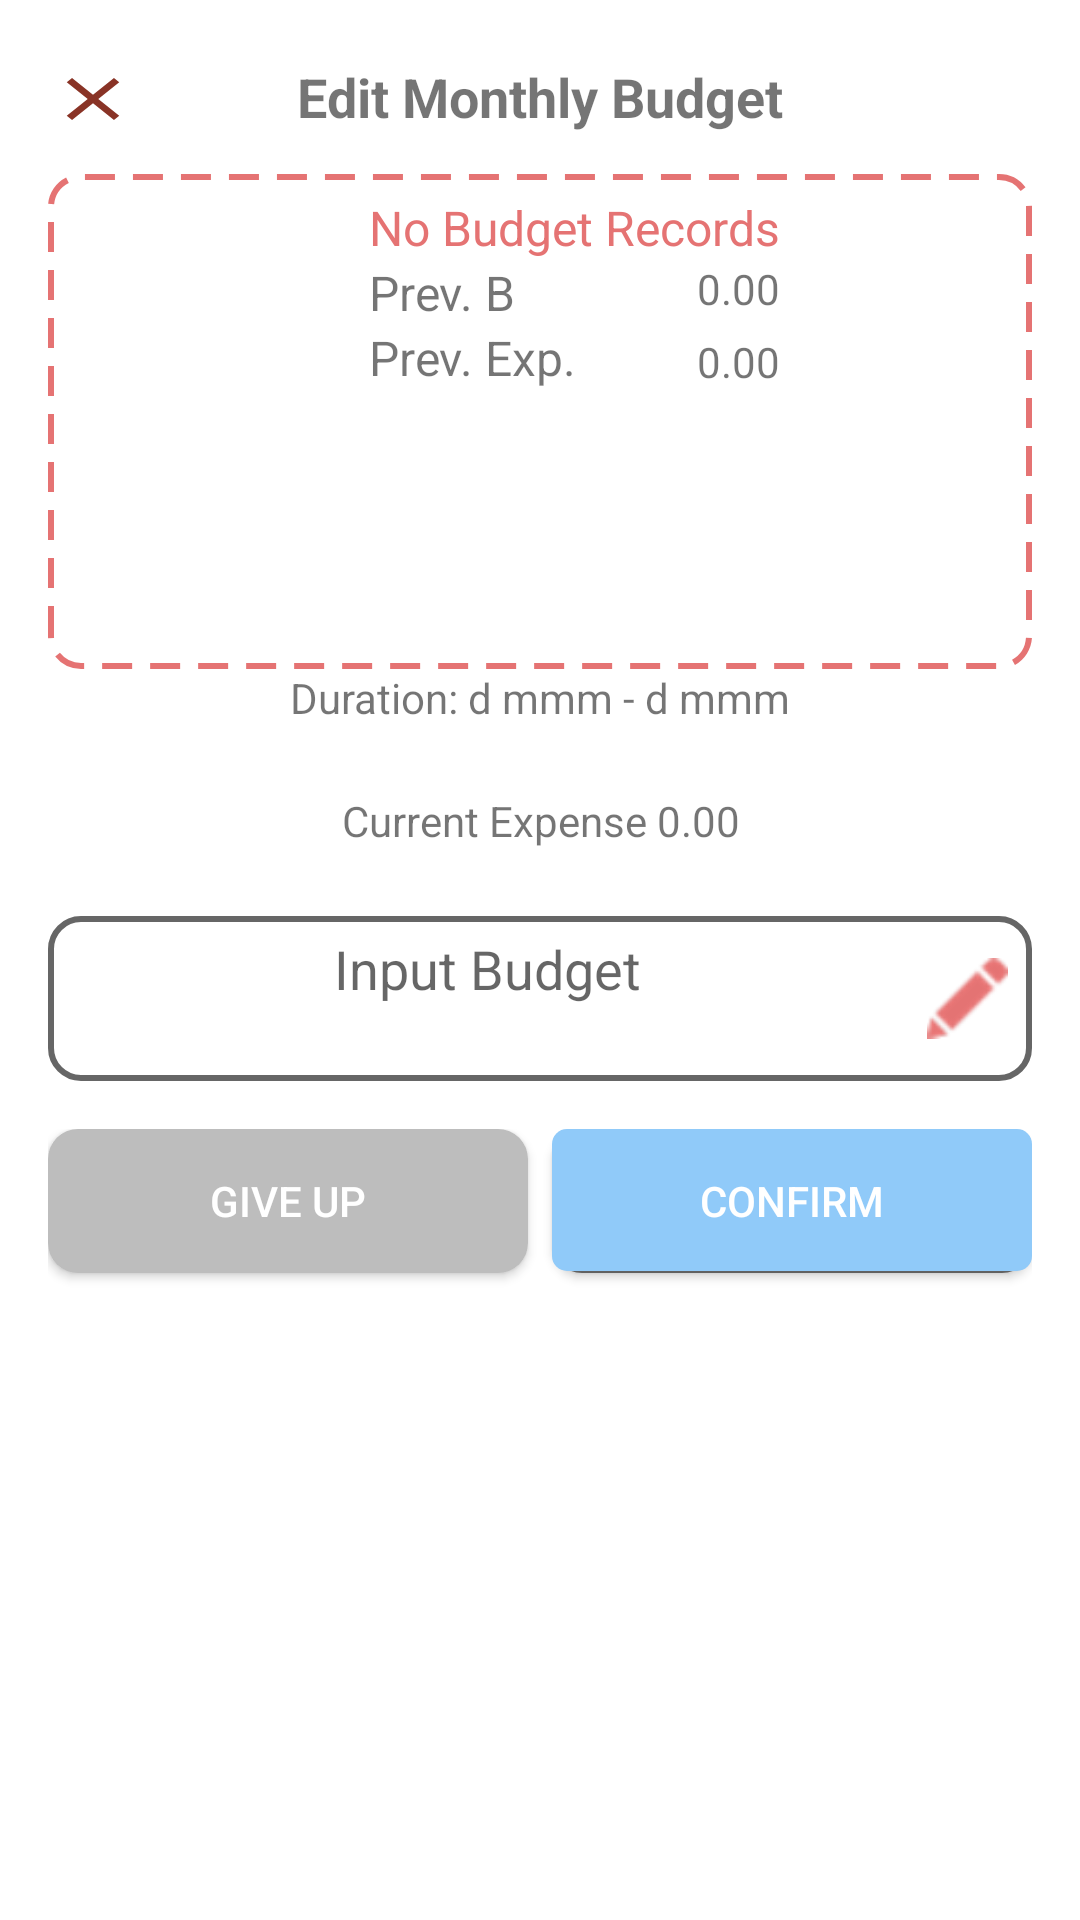

Icons on this 1080px x 1920px Android screen, each with the point to tap as [x,y]:
close: [93,99]
edit: [967,998]
